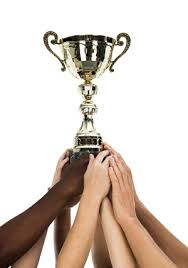trophy: (42, 31, 133, 157)
